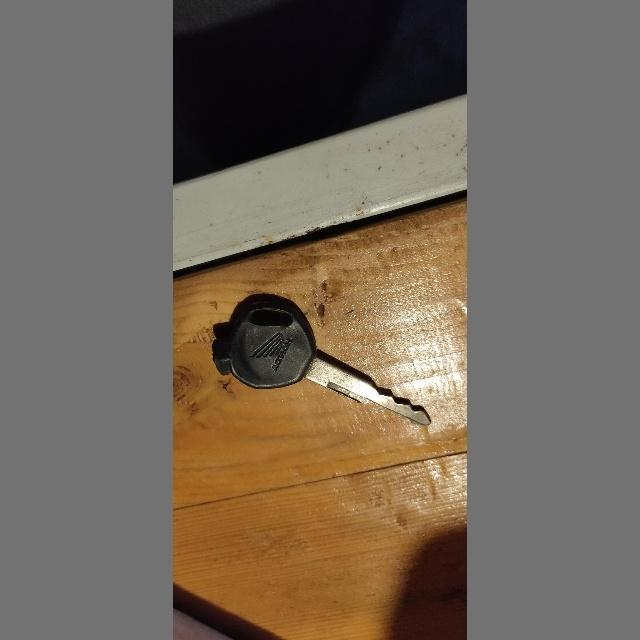Keys: (211, 286, 434, 430)
